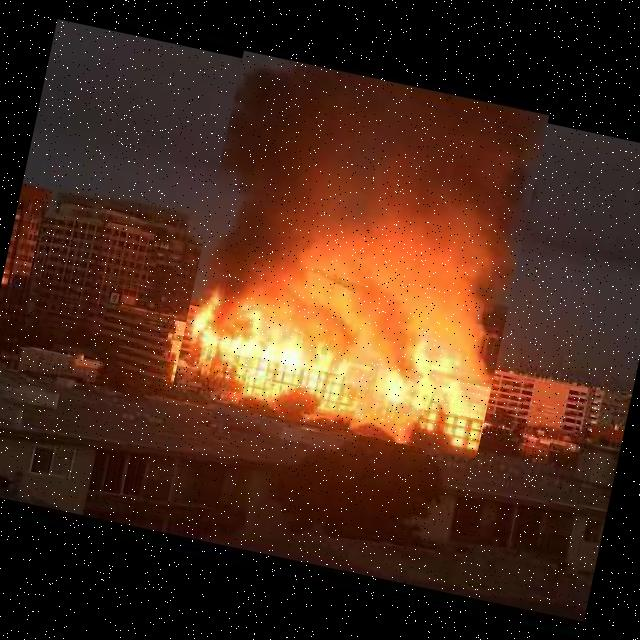fire: (170, 48, 549, 460)
